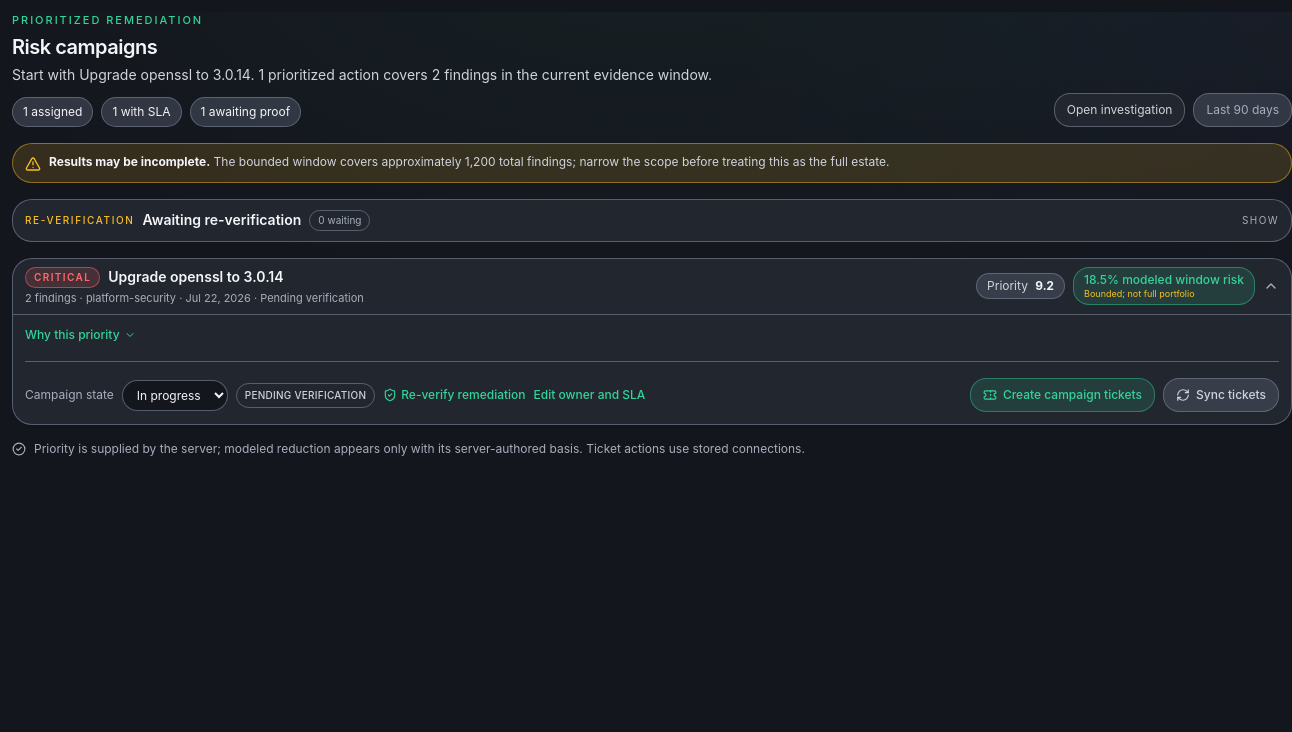
Test: RiskCampaignCommandCenter › re-verifies against server-owned canonical evidence and renders remaining evidence
Expected: the heading "Upgrade openssl to 3.0.14" is shown, left=108, top=267, right=284, bottom=287
Click the button "Re-verify remediation" at (454, 395), box left=383, top=387, right=526, bottom=403
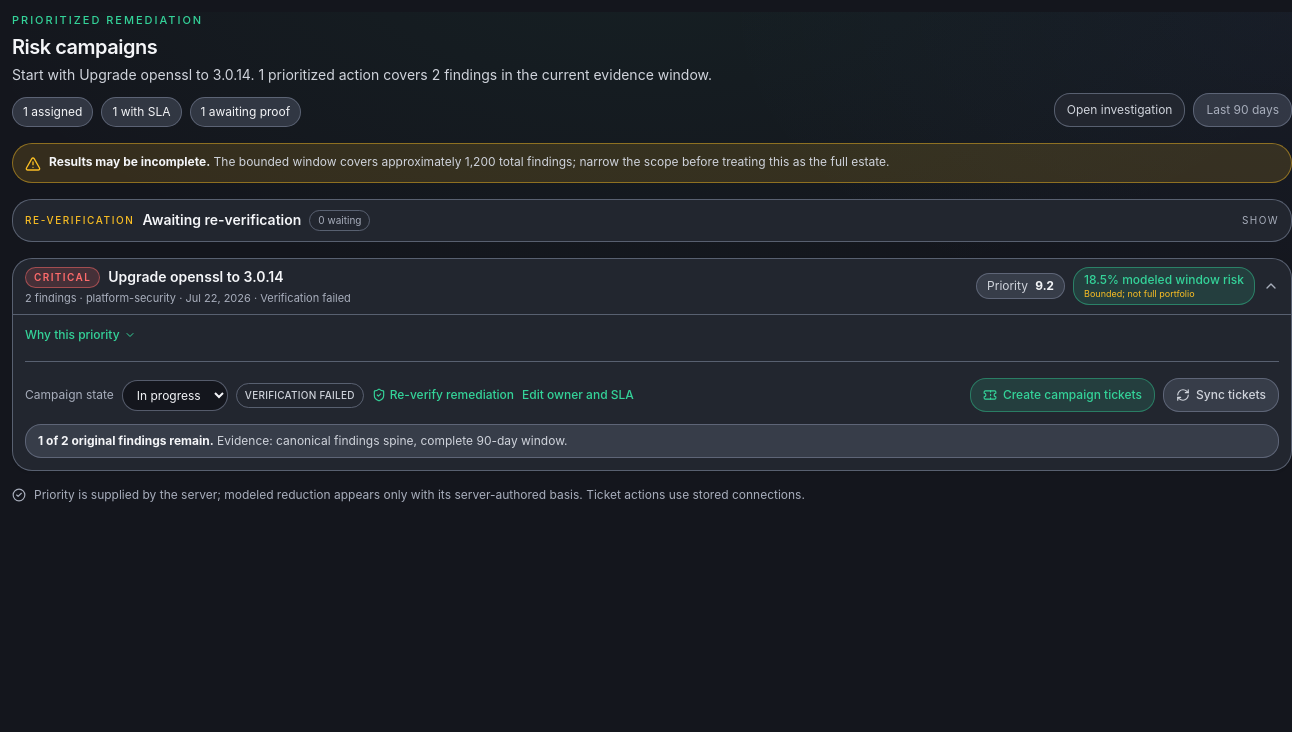
Expected: the text "1 of 2 original findings remain." is shown, left=38, top=433, right=214, bottom=448
Expected: the text "canonical findings spine" is shown, left=276, top=433, right=414, bottom=448
Expected: the text "Verification failed" is shown, left=260, top=290, right=351, bottom=304
